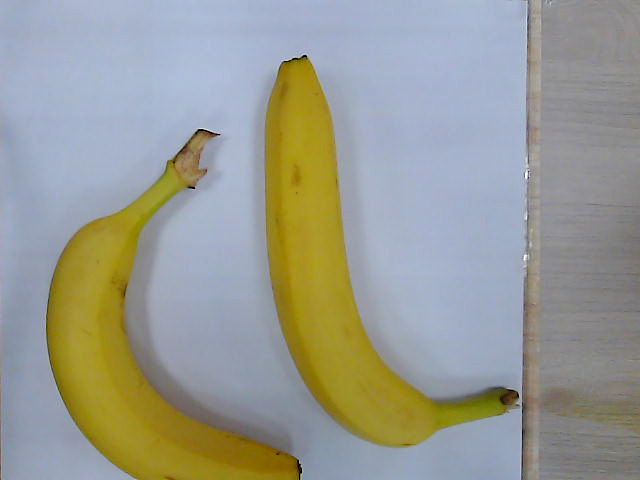fresh_banana: (263, 57, 519, 445), (45, 132, 299, 480)
